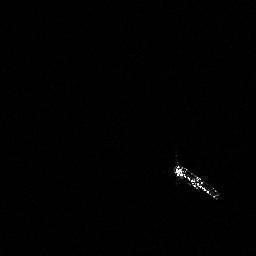ship: (171, 159, 223, 205)
